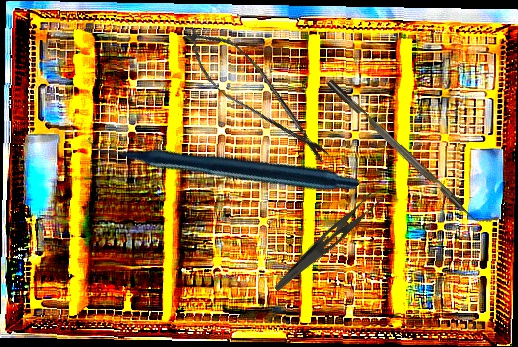Chopper: (326, 71, 493, 234)
Dressing Forceps: (272, 182, 388, 304)
Handpiece: (85, 24, 362, 299)
Micro Scissor: (172, 14, 343, 175)
